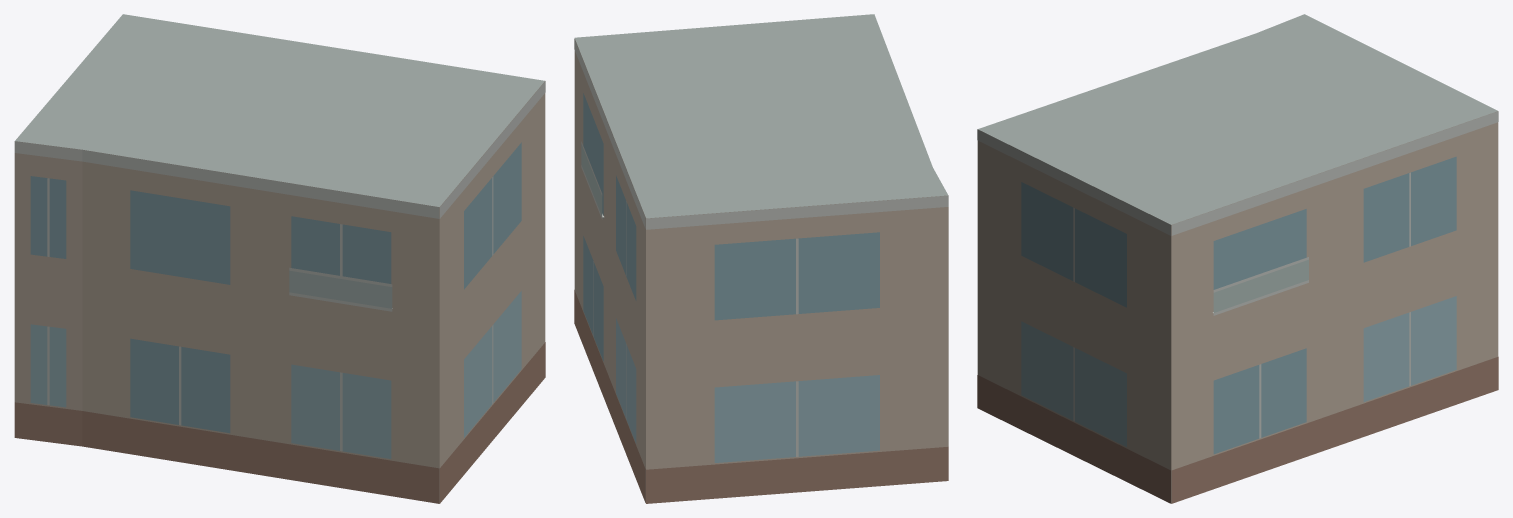
Rendered from survey-upis-32765249.glb.
3 renders of one model, left to right at view 1: azimuth 30°, elevation 25°; view 2: azimuth 150°, elevation 25°; view 3: azimuth 270°, elevation 25°, orthographic. The views are drawn at different scales.
Visible parts, largest first — view 1: survey-upis-32765249.tmp; view 2: survey-upis-32765249.tmp; view 3: survey-upis-32765249.tmp.
Part boxes in pixels (x1,y1,x2,y2): survey-upis-32765249.tmp: (14, 14, 545, 503); survey-upis-32765249.tmp: (574, 14, 948, 503); survey-upis-32765249.tmp: (977, 14, 1498, 503).
Bounding box in the file's own units: 9.9 × 6.1 × 10.33.
